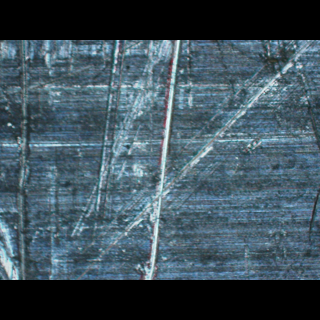d: (136, 40, 198, 279), (224, 39, 320, 155), (89, 40, 128, 218), (14, 41, 43, 279)
